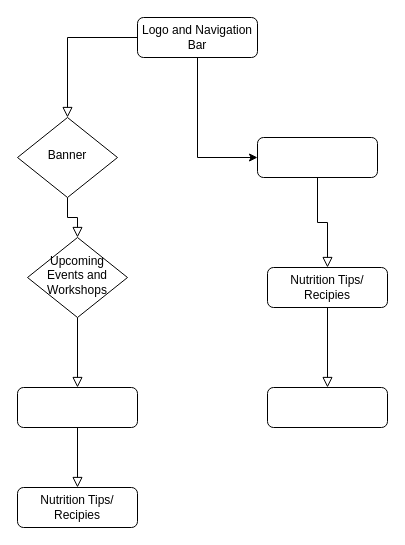
The diagram is 405 pixels wide and 545 high, and some of its shapes have lost their labels. Here are the shapes that lost their labels. From the top down, the centre of each, then its label:
At (317,157): "Welcome Text and Mission Statement".
At (77,407): "Join Us Form".
At (327,407): "Footer".
